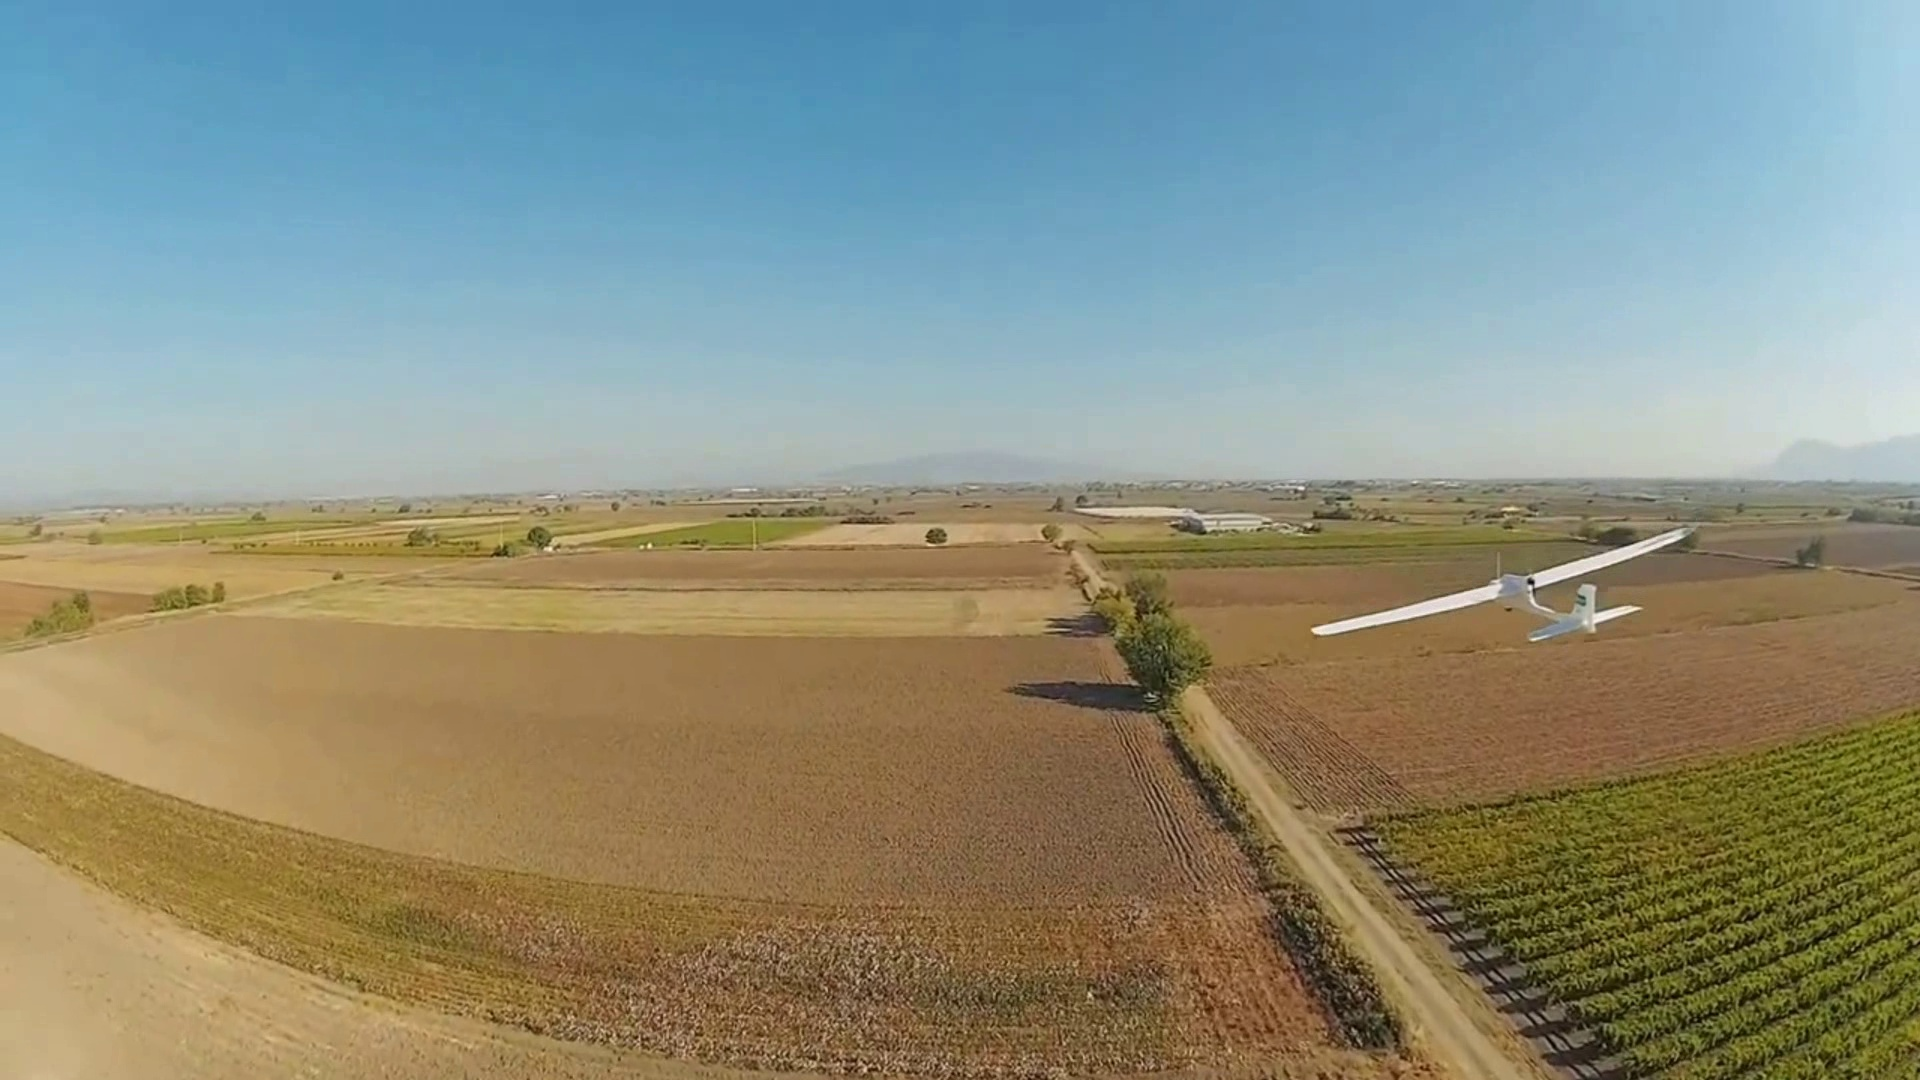airplane: (1309, 520, 1697, 642)
